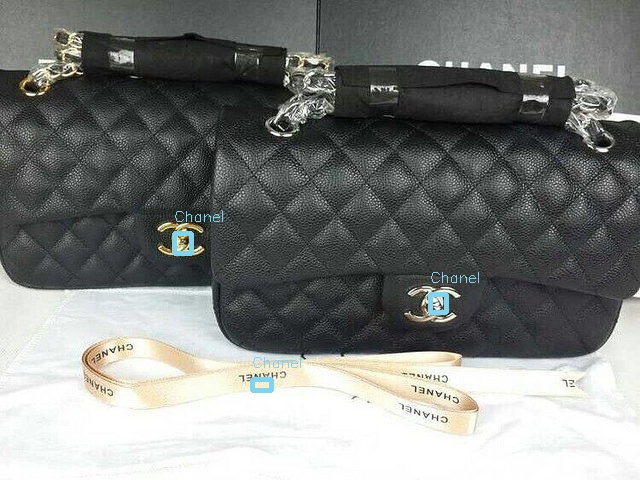Chanel: (404, 285, 464, 328), (152, 217, 208, 261), (394, 399, 450, 432), (239, 369, 289, 384)
